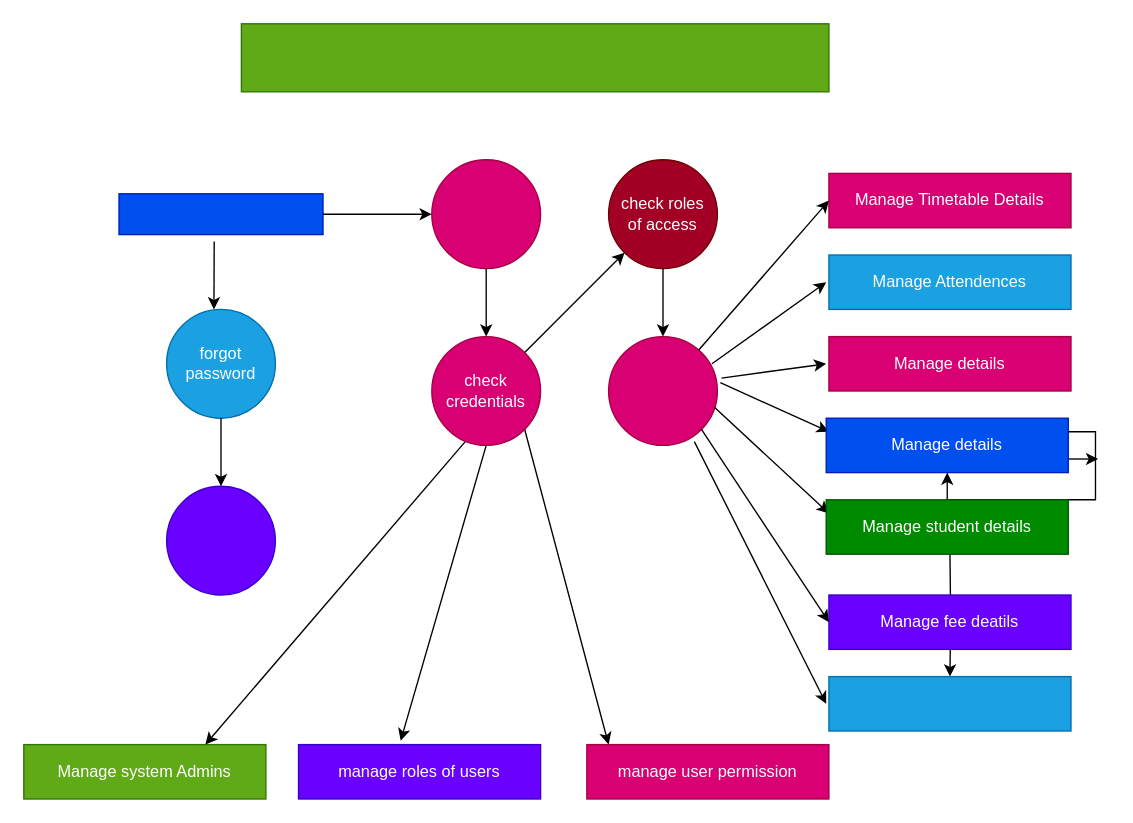
Image size: 1133x823. Some labels were removed from this diagram. The shapes that lost their labels are listed below. From the top down, each one's centre as x and y in pixels, then its label:
At (534,57): "Student Information System".
At (220,213): "Admin".
At (485,213): "login to system".
At (662,390): "Manage modules".
At (220,540): "send email to user".
At (949,703): "Manage reports".
